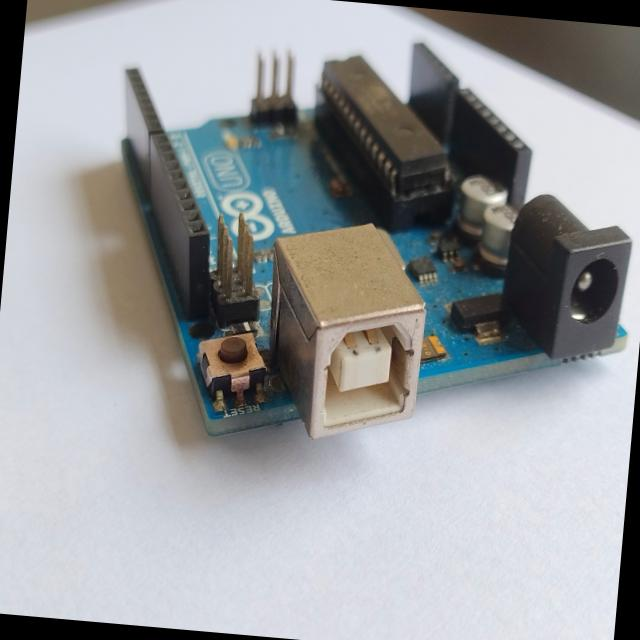arduino: (75, 35, 640, 423)
